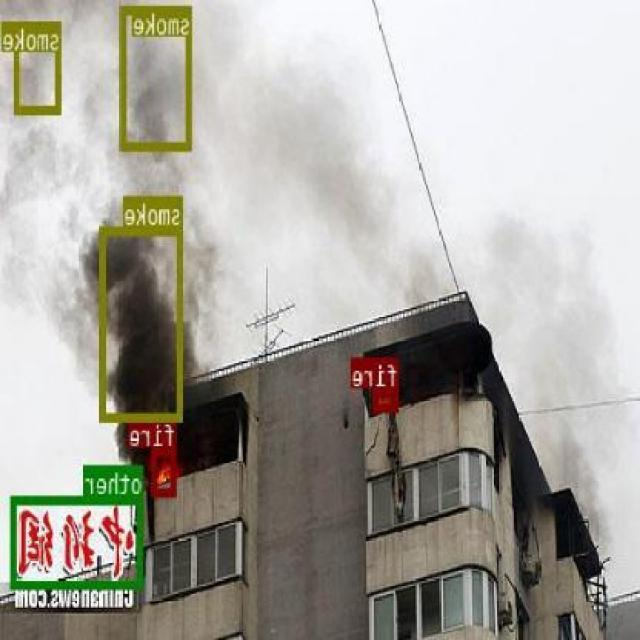Fire: (152, 446, 177, 494), (374, 388, 400, 410)
Smoke: (240, 41, 372, 286), (496, 204, 620, 435), (6, 138, 92, 339), (102, 225, 184, 420), (121, 5, 192, 148), (16, 20, 62, 114), (394, 252, 436, 300)
